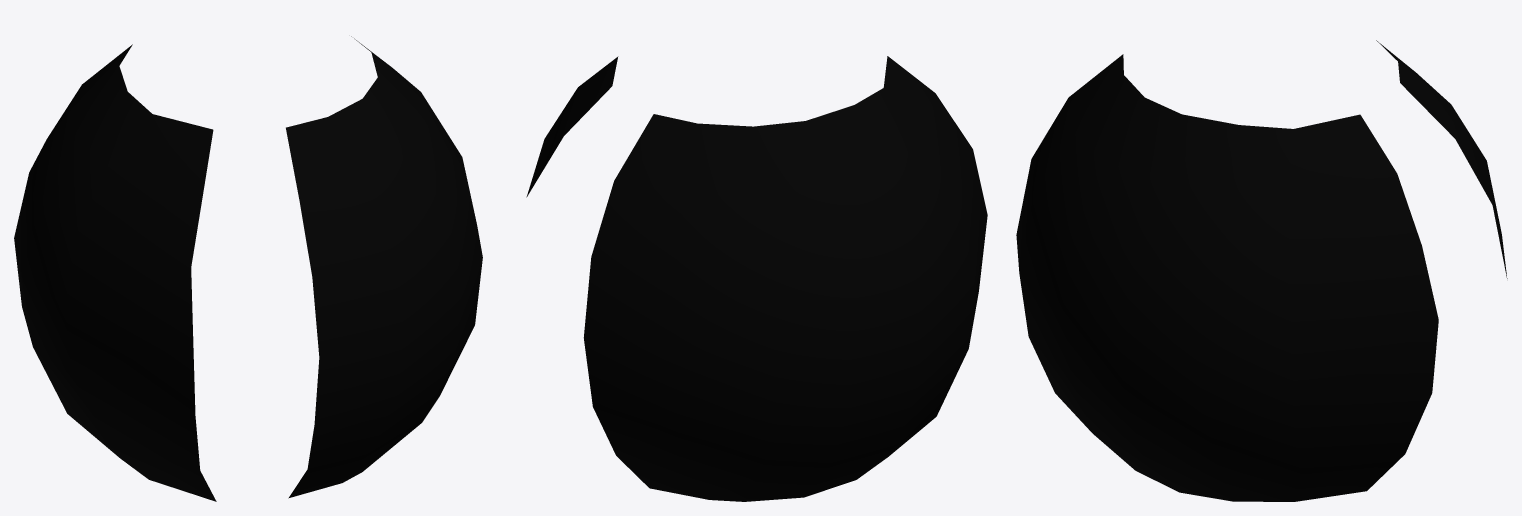
File: bubble_solid_house3.glb
The picture shows the model from 3 angles, left to right: view 1: azimuth 30°, elevation 25°; view 2: azimuth 150°, elevation 25°; view 3: azimuth 270°, elevation 25°; orthographic projection.
Visible parts, largest first — view 1: bubble_solid_texture.png__; view 2: bubble_solid_texture.png__; view 3: bubble_solid_texture.png__.
Boxes of the visible parts, x1=… form: bubble_solid_texture.png__: x1=14, y1=36, x2=482, y2=501; bubble_solid_texture.png__: x1=526, y1=56, x2=987, y2=501; bubble_solid_texture.png__: x1=1016, y1=40, x2=1507, y2=501.
Size of the model in its own units: 6.41 by 5.61 by 6.59.
1 material, 1 textured.
